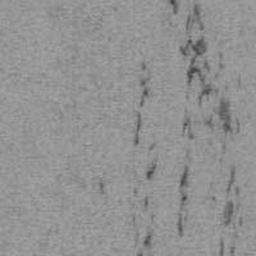Inclusion: (169, 0, 242, 156), (134, 60, 159, 180), (211, 166, 246, 228), (177, 164, 191, 239), (136, 227, 156, 256), (133, 187, 150, 211), (220, 238, 238, 256), (236, 74, 243, 88), (100, 182, 106, 195)
